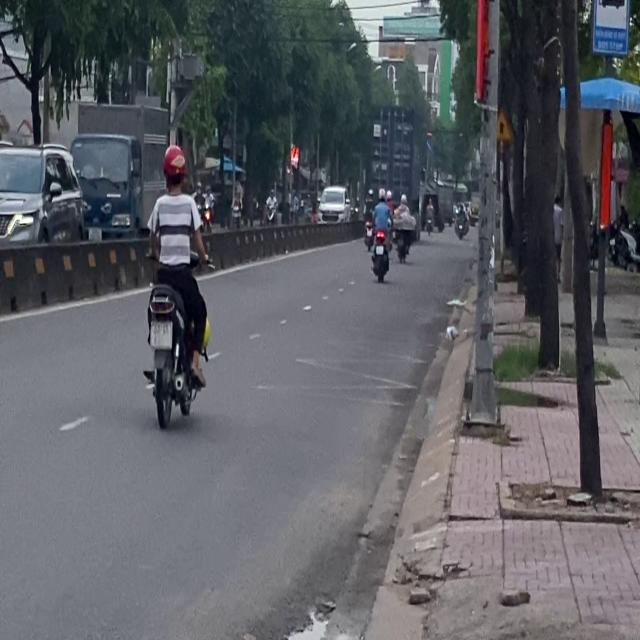helmet: (161, 143, 186, 190)
licenseplate: (140, 142, 211, 427)
nohelmet: (150, 322, 172, 346)
